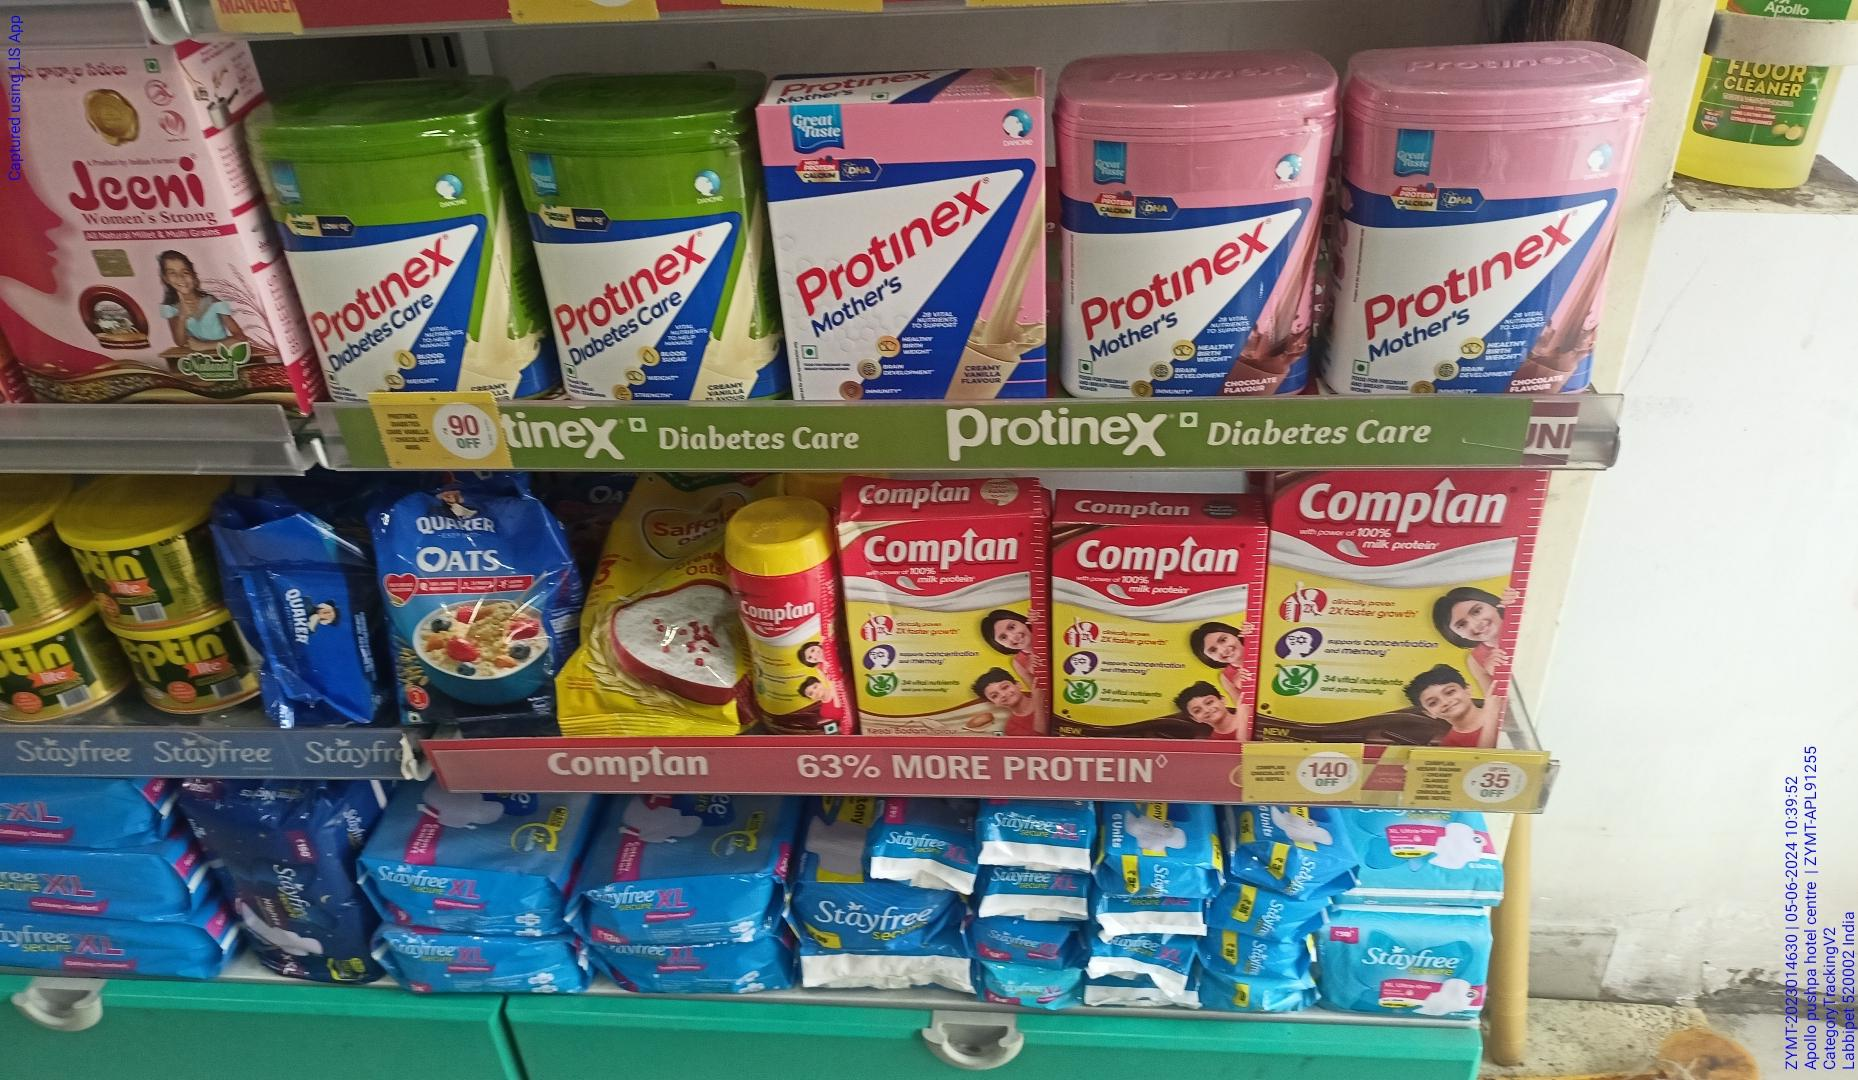COMPLAN_CHOCOLATE_200_GMS_PACK: (1054, 519, 1254, 741)
COMPLAN_CHOCOLATE_500_GMS_JAR: (739, 521, 837, 734)
COMPLAN_CHOCOLATE_500_GMS_PACK: (1268, 474, 1508, 744)
COMPLAN_KESAR_BADAM_200_GMS_PACK: (849, 519, 1048, 735)
